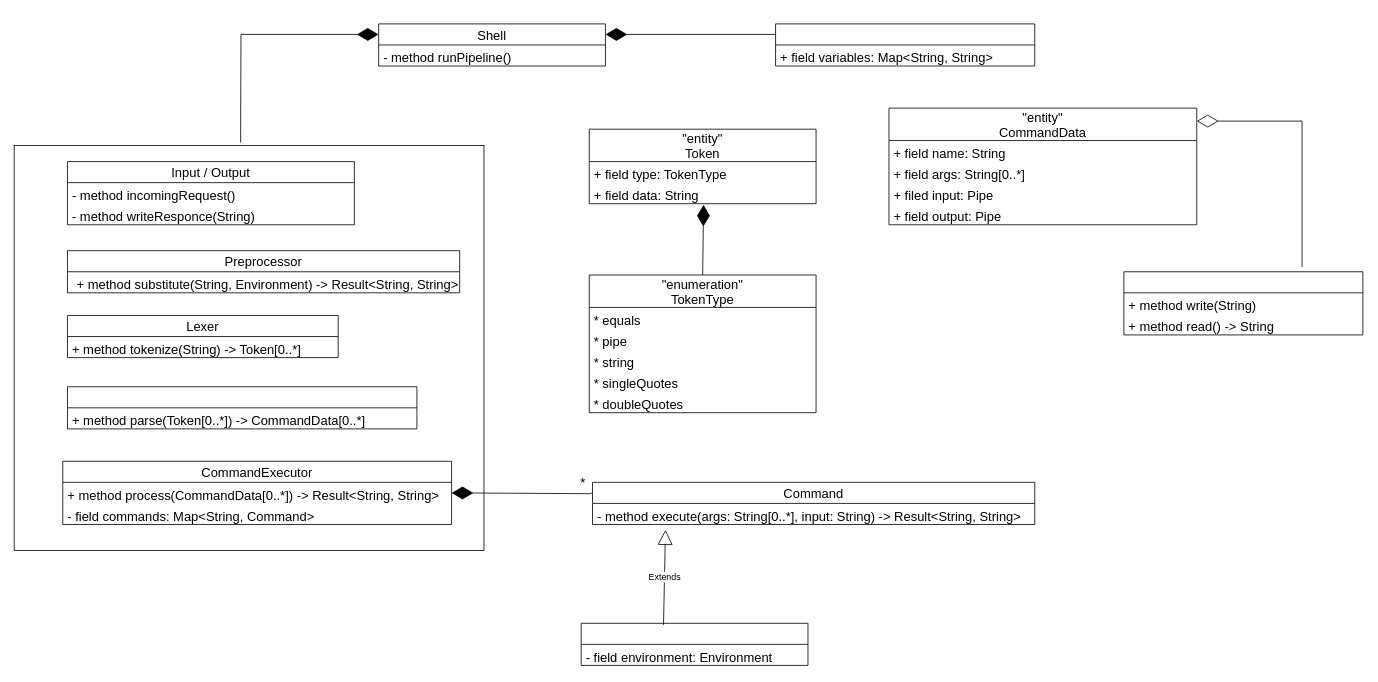
This 1378x682 diagram has some shape labels left out. Here are the shapes that lost their labels. From the top down, the box of each, then its label:
(775, 23, 1035, 66): Environment
(1123, 271, 1363, 335): Pipe
(67, 386, 417, 429): Parser
(580, 622, 808, 665): AssignmentCommand
